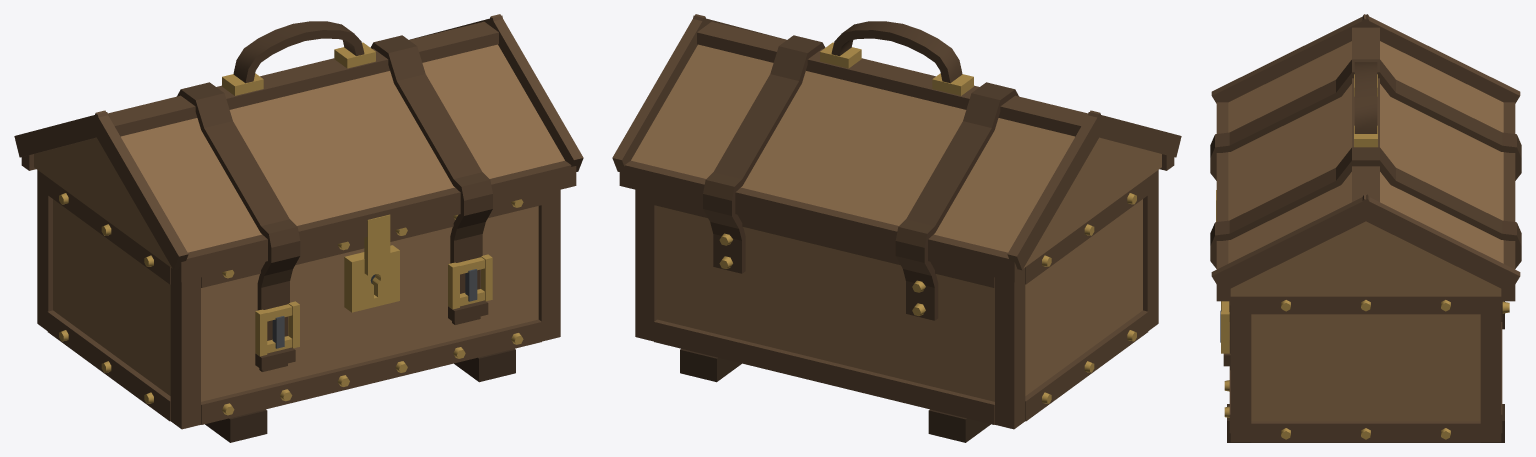
File: SM_LPD_Crate_ChestSmall_01.fbx
3 views of the same model, side by side, from view 1: azimuth 30°, elevation 25°; view 2: azimuth 150°, elevation 25°; view 3: azimuth 270°, elevation 25° (orthographic). The views are drawn at different scales.
Visible parts, largest first — view 1: SM_LPD_Crate_ChestSmall_01; view 2: SM_LPD_Crate_ChestSmall_01; view 3: SM_LPD_Crate_ChestSmall_01.
Boxes of the visible parts, box(x1,y1,x2,y2) form: SM_LPD_Crate_ChestSmall_01: box(14, 14, 583, 442); SM_LPD_Crate_ChestSmall_01: box(612, 14, 1181, 442); SM_LPD_Crate_ChestSmall_01: box(1210, 14, 1521, 442).
Size of the model in its own units: 0.504 by 0.3875 by 0.359.
